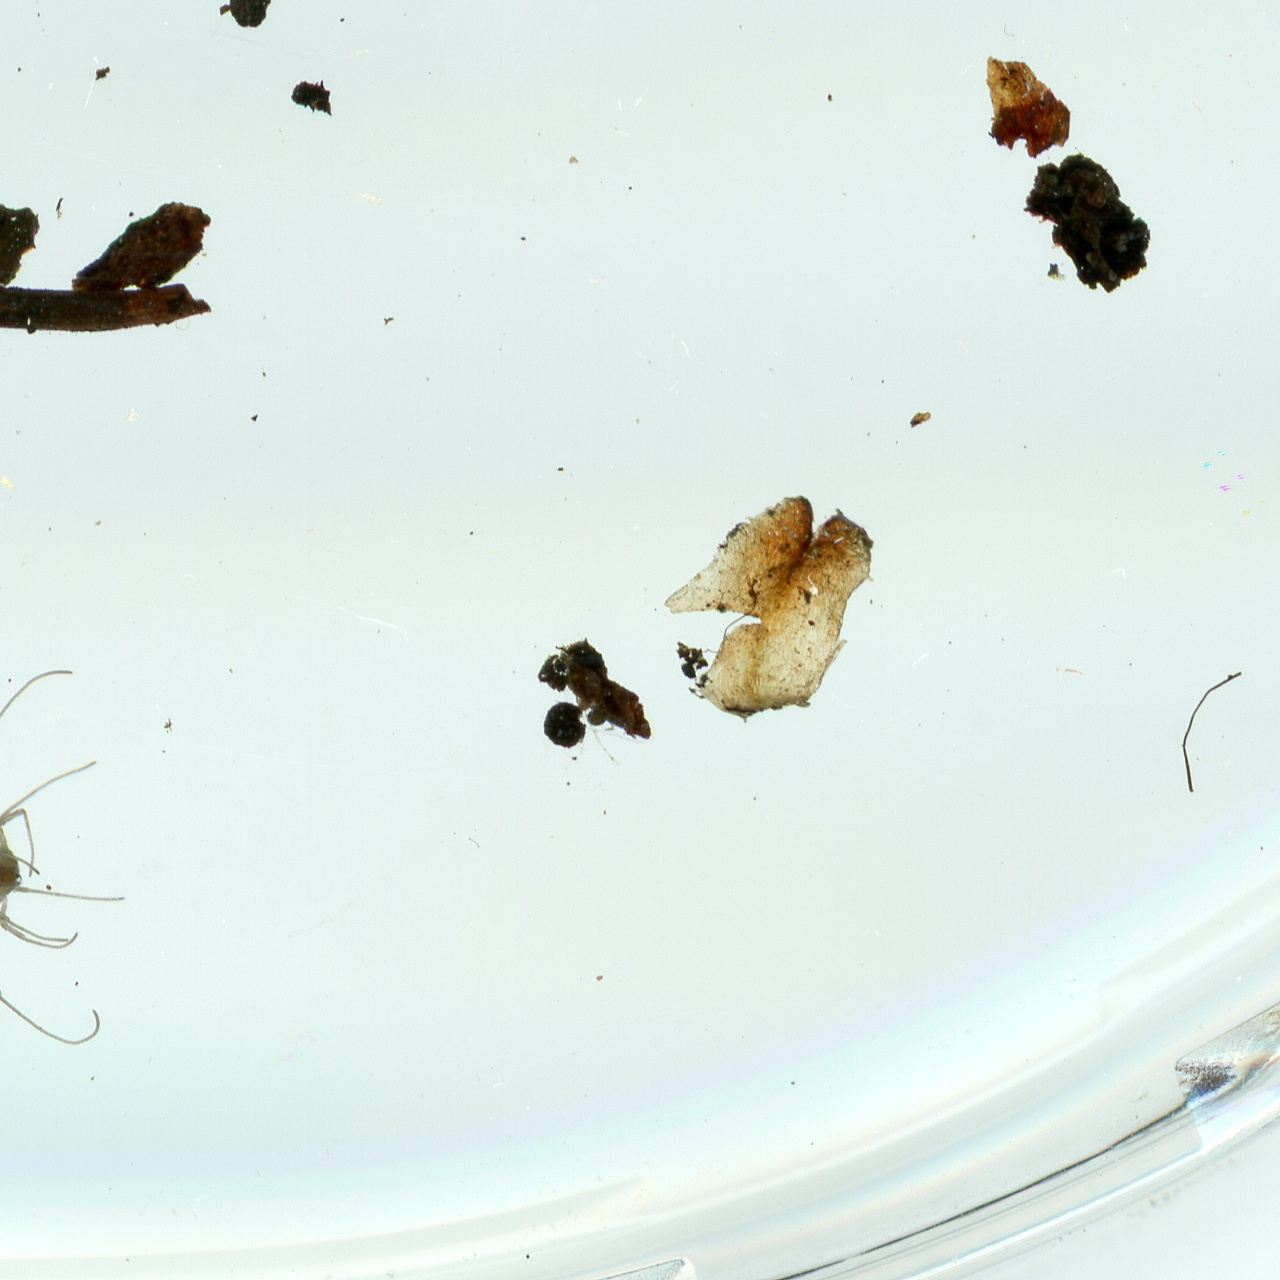arthropod: (0, 660, 131, 1053)
